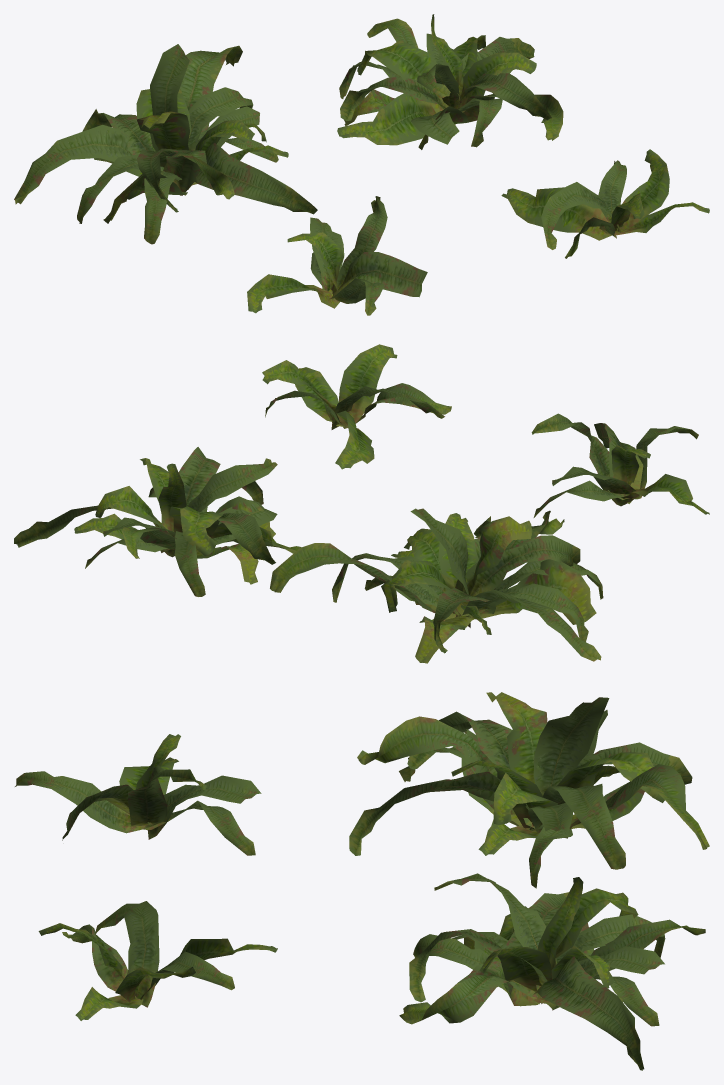
The model's file is glb_fern.2a3f89be.glb.
The picture shows the model from 3 angles, top to bottom: view 1: azimuth 30°, elevation 25°; view 2: azimuth 150°, elevation 25°; view 3: azimuth 270°, elevation 25°; orthographic projection. The views are drawn at different scales.
Parts seen in each view (by area): view 1: fern_02_b; view 2: fern_02_b; view 3: fern_02_b.
Boxes of the visible parts, x1,y1,x2,y2 form: fern_02_b: (14,14,709,315); fern_02_b: (14,344,709,663); fern_02_b: (15,692,709,1070).
Size of the model in its own units: 1.97 by 0.4277 by 1.72.
Materials: 1 (1 with a texture image).
